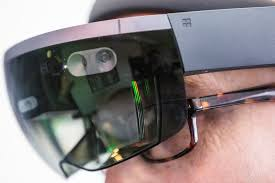hololens: (3, 13, 236, 180)
